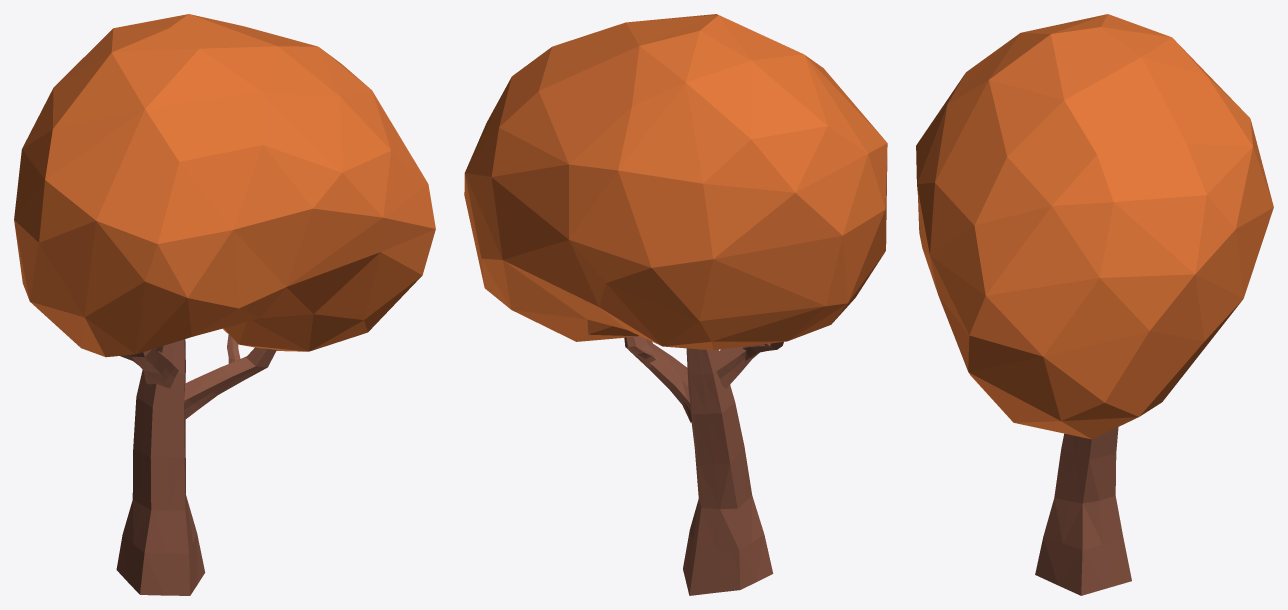
Rendered from Tree_02.fbx.
The picture shows the model from 3 angles, left to right: view 1: azimuth 30°, elevation 25°; view 2: azimuth 150°, elevation 25°; view 3: azimuth 270°, elevation 25°; orthographic projection. The views are drawn at different scales.
Parts seen in each view (by area): view 1: Tree_02; view 2: Tree_02; view 3: Tree_02.
Boxes of the visible parts, left/top/right/bottom form: Tree_02: left=14, top=14, right=435, bottom=595; Tree_02: left=464, top=14, right=887, bottom=595; Tree_02: left=916, top=14, right=1273, bottom=595.
Size of the model in its own units: 646 by 881 by 513.
